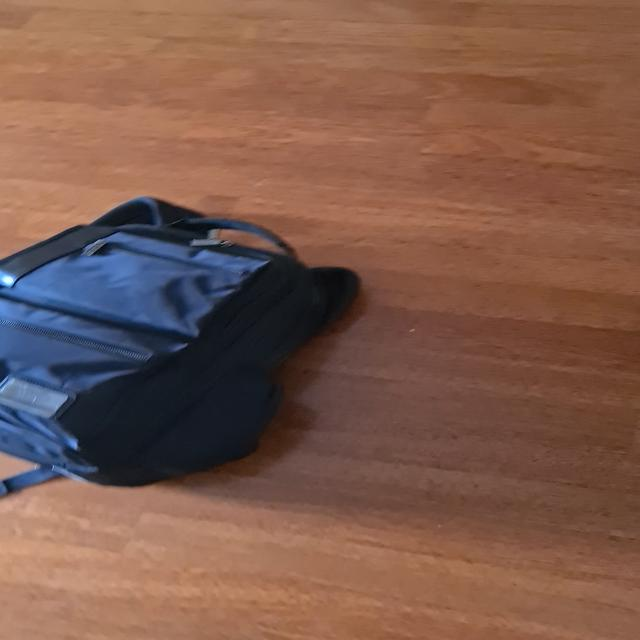backpack: (0, 193, 378, 491)
